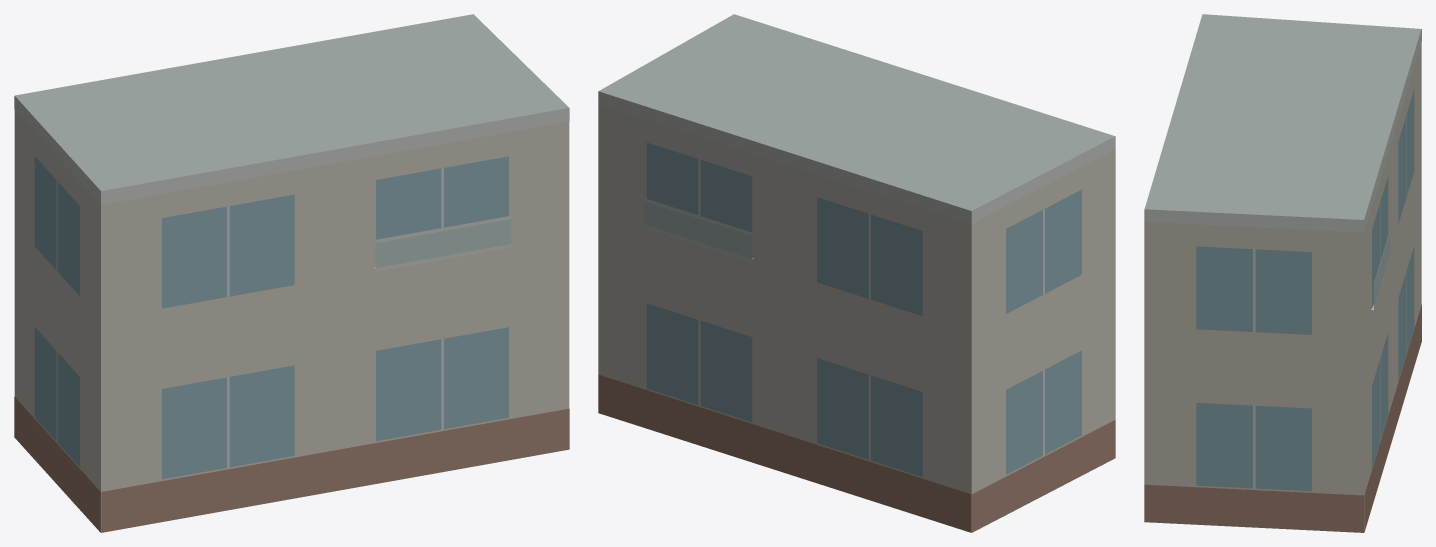
File: survey-upis-32621520.glb
3 renders of one model, left to right at view 1: azimuth 30°, elevation 25°; view 2: azimuth 150°, elevation 25°; view 3: azimuth 270°, elevation 25°, orthographic. The views are drawn at different scales.
Visible parts, largest first — view 1: survey-upis-32621520.tmp; view 2: survey-upis-32621520.tmp; view 3: survey-upis-32621520.tmp.
Boxes of the visible parts, bbox=[...] form: survey-upis-32621520.tmp: bbox=[14, 14, 569, 532]; survey-upis-32621520.tmp: bbox=[598, 14, 1115, 532]; survey-upis-32621520.tmp: bbox=[1144, 14, 1421, 532].
Size of the model in its own units: 8.62 by 6.1 by 4.91.
